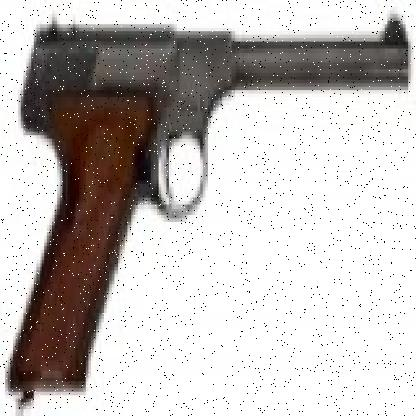pistol: (10, 10, 410, 388)
